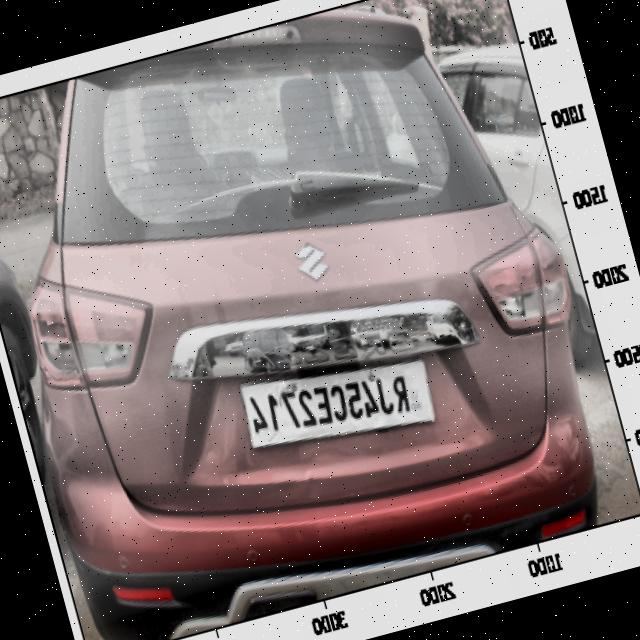license_plate: (238, 347, 423, 458)
